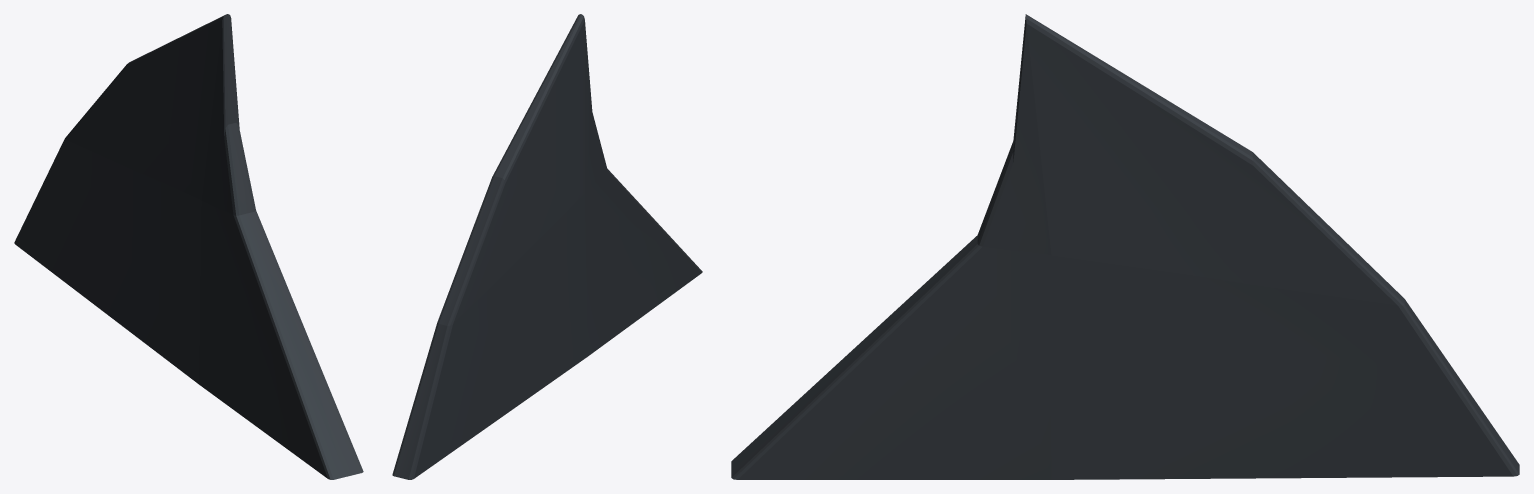
File: shark.fbx
3 renders of one model, left to right at view 1: azimuth 30°, elevation 25°; view 2: azimuth 150°, elevation 25°; view 3: azimuth 270°, elevation 25°, orthographic. The views are drawn at different scales.
Visible parts, largest first — view 1: Cube; view 2: Cube; view 3: Cube.
Boxes of the visible parts, x1,y1,x2,y2 form: Cube: (14,14,363,479); Cube: (392,14,702,479); Cube: (731,14,1519,479).
Size of the model in its own units: 20 by 204 by 320.
Materials: 1 (1 with a texture image).
